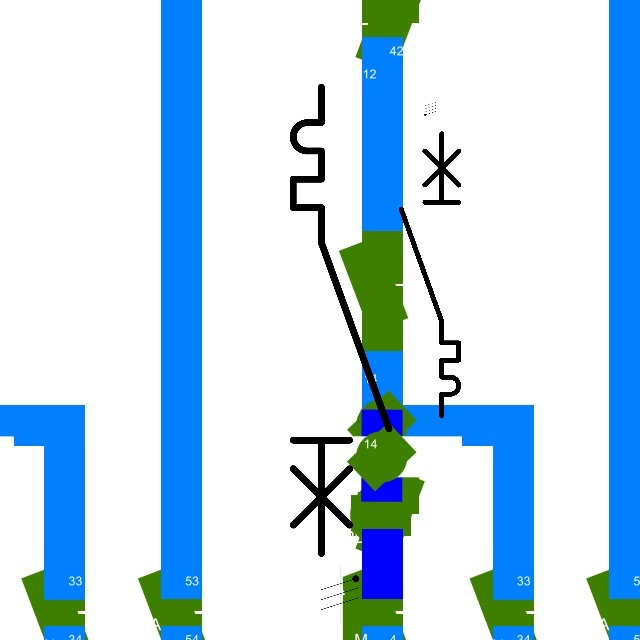interruptor_termomagnetico: (281, 75, 401, 565), (394, 126, 466, 422)
